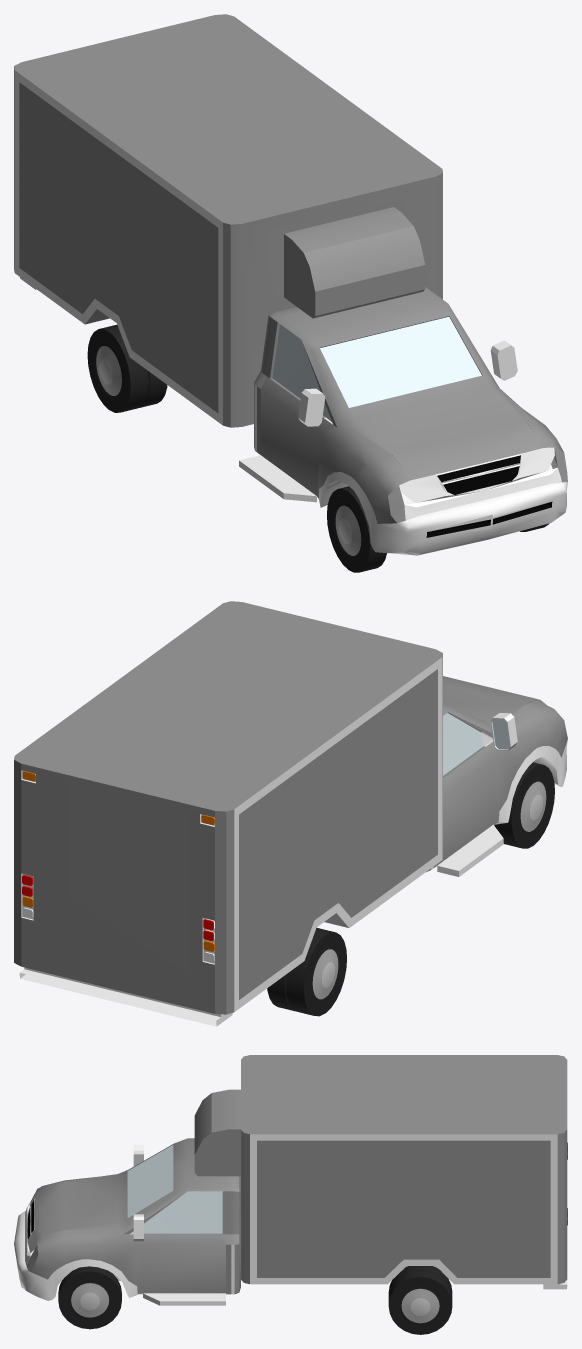
File: TrafficCar1.FBX
3 renders of one model, top to bottom at view 1: azimuth 30°, elevation 25°; view 2: azimuth 150°, elevation 25°; view 3: azimuth 270°, elevation 25°, orthographic. The views are drawn at different scales.
Visible parts, largest first — view 1: PaintableBody, NotPaintableBody, Wheel_RR, Wheel_FR; view 2: PaintableBody, NotPaintableBody, Wheel_RR, Wheel_FR; view 3: PaintableBody, NotPaintableBody, Wheel_RL, Wheel_FL.
Part boxes in pixels (x1,y1,x2,y2): PaintableBody: [14, 14, 567, 523]; NotPaintableBody: [14, 70, 567, 555]; Wheel_RR: [87, 324, 167, 412]; Wheel_FR: [327, 486, 386, 572]; PaintableBody: [14, 601, 567, 1014]; NotPaintableBody: [19, 657, 567, 1026]; Wheel_RR: [267, 928, 346, 1016]; Wheel_FR: [494, 762, 554, 848]; PaintableBody: [27, 1055, 567, 1294]; NotPaintableBody: [14, 1134, 567, 1305]; Wheel_RL: [388, 1266, 452, 1334]; Wheel_FL: [58, 1266, 121, 1329].
Size of the model in its own units: 76.89 by 89.99 by 224.
Materials: 6 (5 with a texture image).
